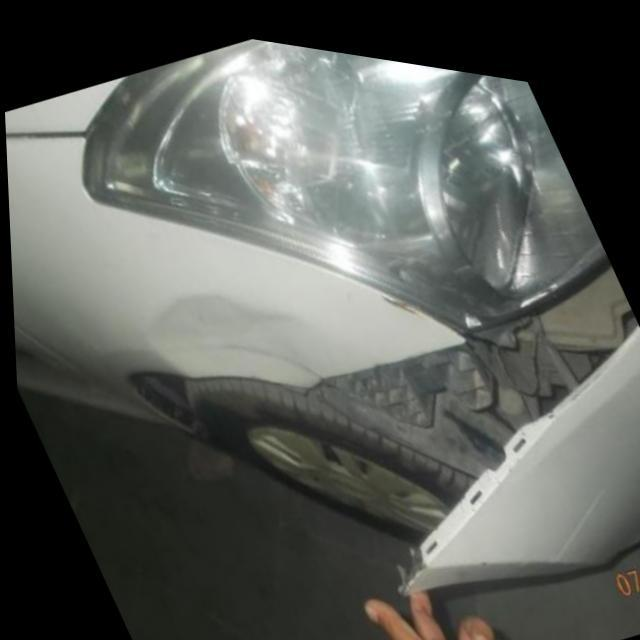dislocated part: (300, 239, 637, 573)
